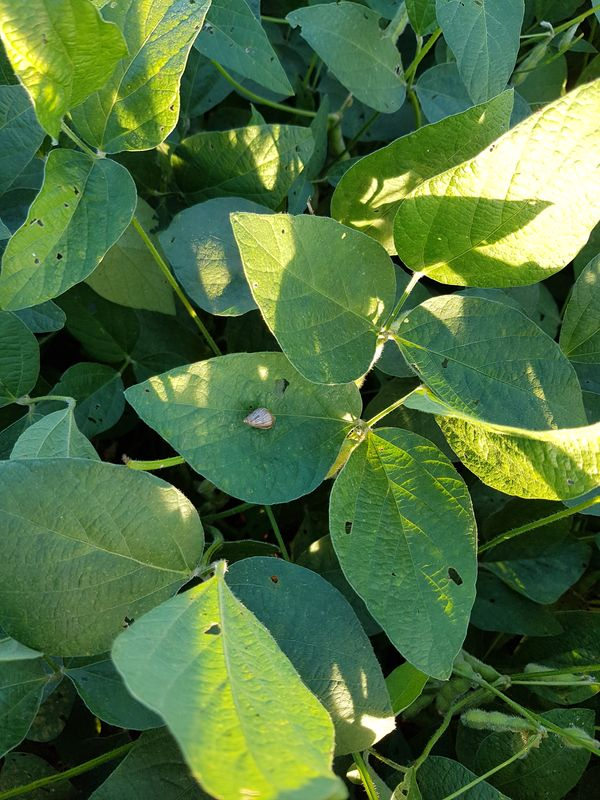Gastropoda: (232, 399, 286, 440)
